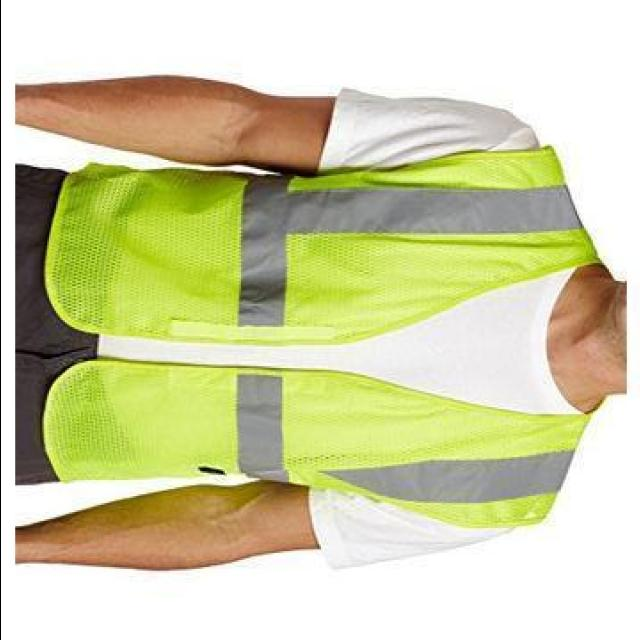jacket: (32, 136, 640, 532)
